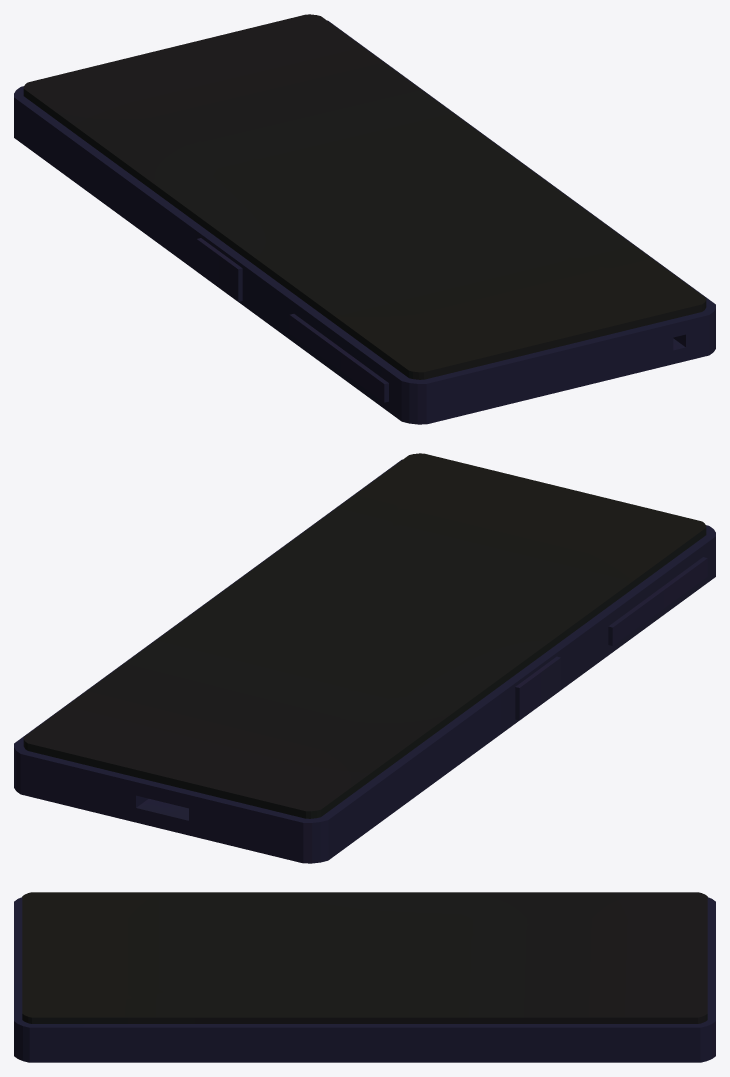
Rendered from pp-smartphone.glb.
3 renders of one model, top to bottom at view 1: azimuth 30°, elevation 25°; view 2: azimuth 150°, elevation 25°; view 3: azimuth 270°, elevation 25°, orthographic. The views are drawn at different scales.
Visible parts, largest first — view 1: Kerbside_metres_ground_pivot; view 2: Kerbside_metres_ground_pivot; view 3: Kerbside_metres_ground_pivot.
Boxes of the visible parts, <box> form: Kerbside_metres_ground_pivot: <box>14,14,715,424</box>; Kerbside_metres_ground_pivot: <box>14,453,715,863</box>; Kerbside_metres_ground_pivot: <box>14,892,715,1062</box>.
Size of the model in its own units: 0.0725 by 0.0104 by 0.16.
Materials: 1 (1 with a texture image).
